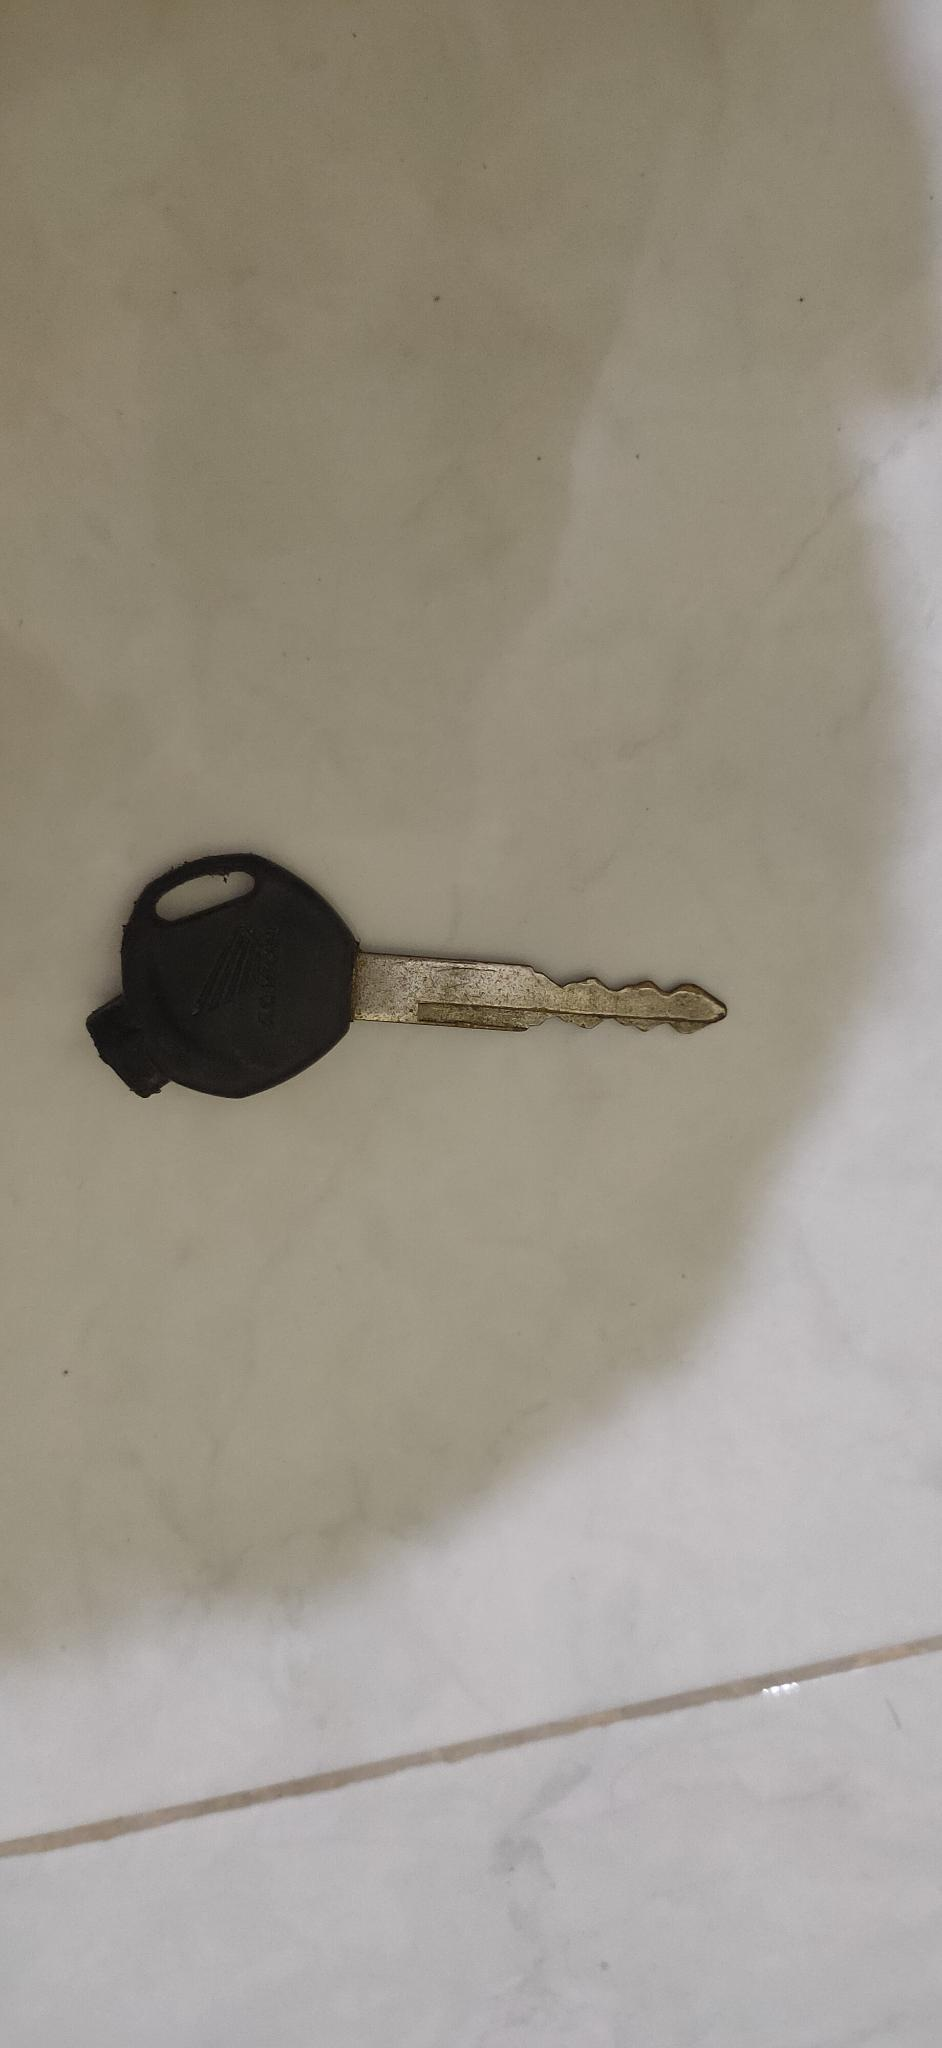keys: (84, 845, 789, 1151)
